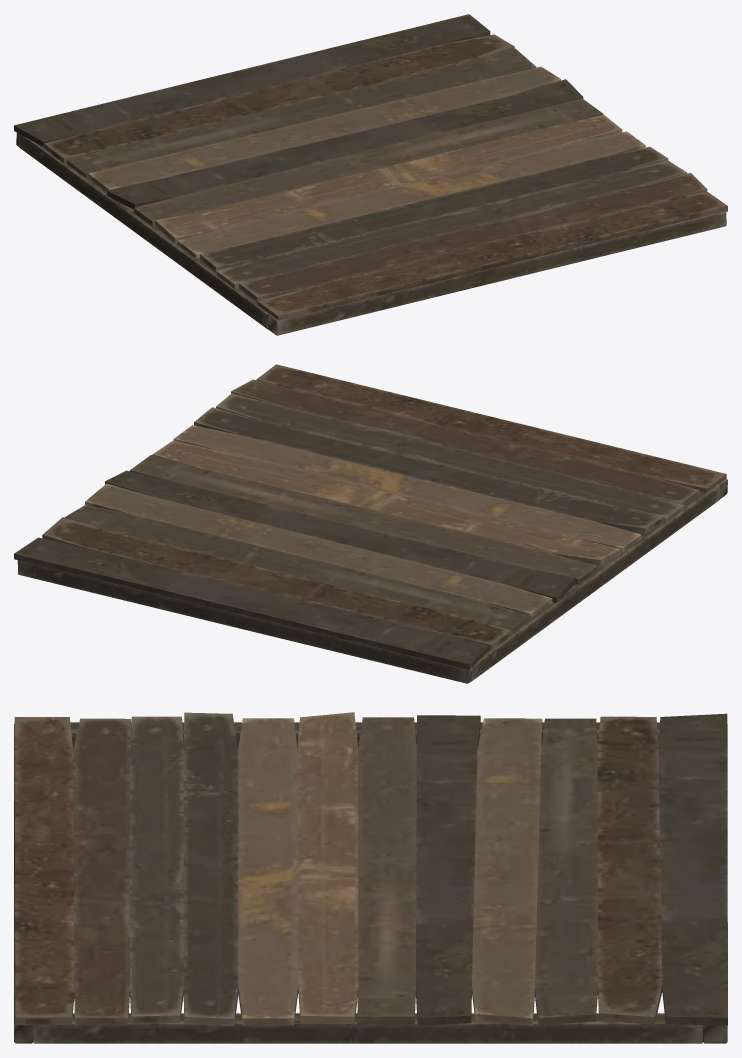
The model's file is floor.frontier_variant_b.glb.
3 renders of one model, top to bottom at view 1: azimuth 30°, elevation 25°; view 2: azimuth 150°, elevation 25°; view 3: azimuth 270°, elevation 25°, orthographic. The views are drawn at different scales.
Visible parts, largest first — view 1: floor_b_LOD0; view 2: floor_b_LOD0; view 3: floor_b_LOD0.
Part boxes in pixels (left/top/right/bottom): floor_b_LOD0: left=14, top=14, right=727, bottom=335; floor_b_LOD0: left=14, top=364, right=727, bottom=683; floor_b_LOD0: left=14, top=712, right=727, bottom=1043.
Size of the model in its own units: 3.05 by 0.1551 by 3.01.
Materials: 1 (1 with a texture image).
